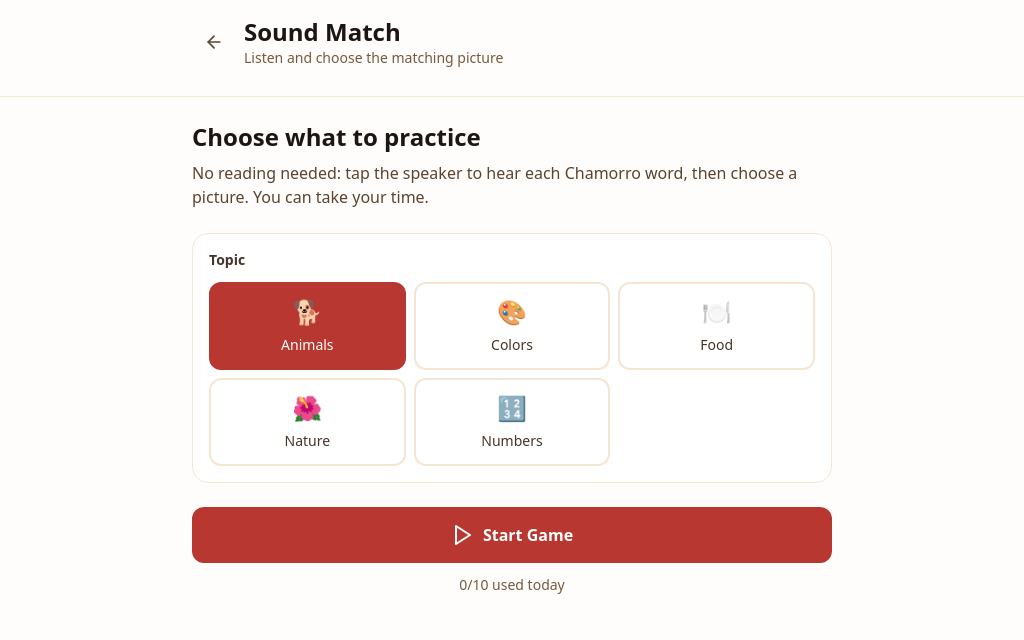
awarded listening-game points › shows exactly the points earned at each listening streak boundary
The width and height of the screenshot is (1024, 640).
Later steps or results of the test are not shown.
Click the button "Start Game".
click(512, 535)  # box [192, 507, 832, 563]
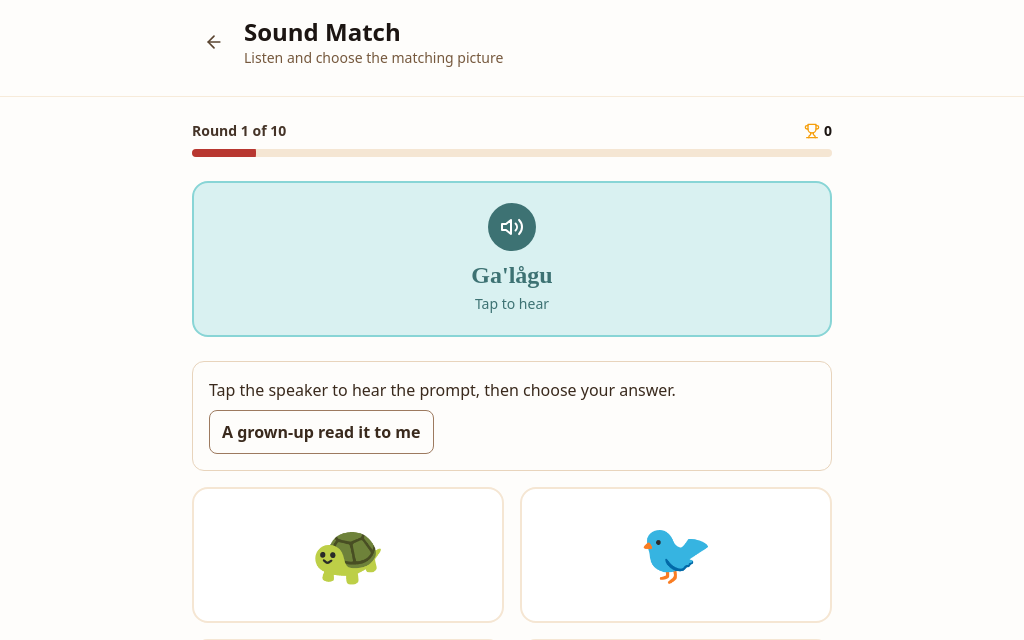
expect the button "Start Game" is gone: met
